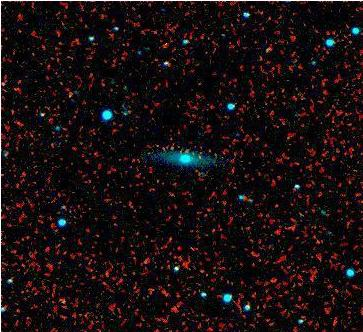star: (49, 291, 79, 321)
